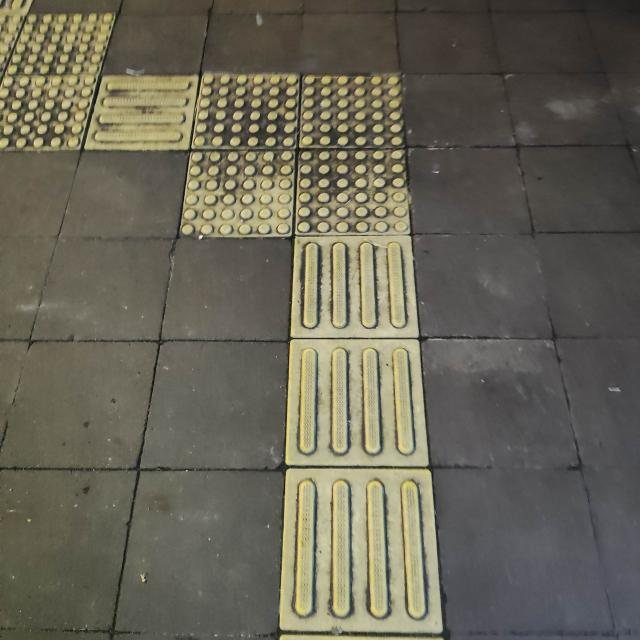kiri: (81, 46, 453, 308)
